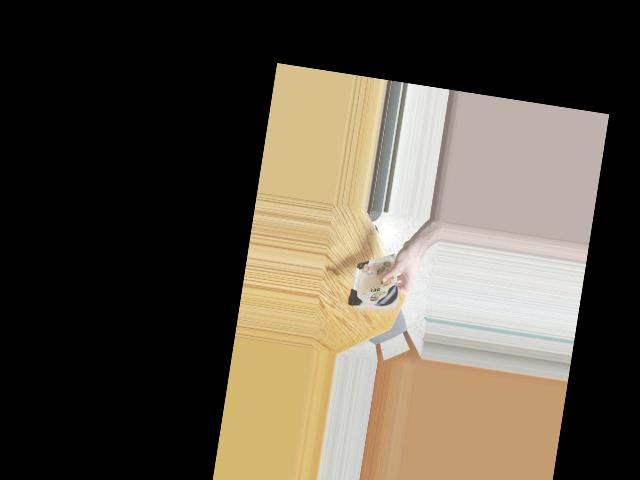cheese: (349, 259, 404, 318)
